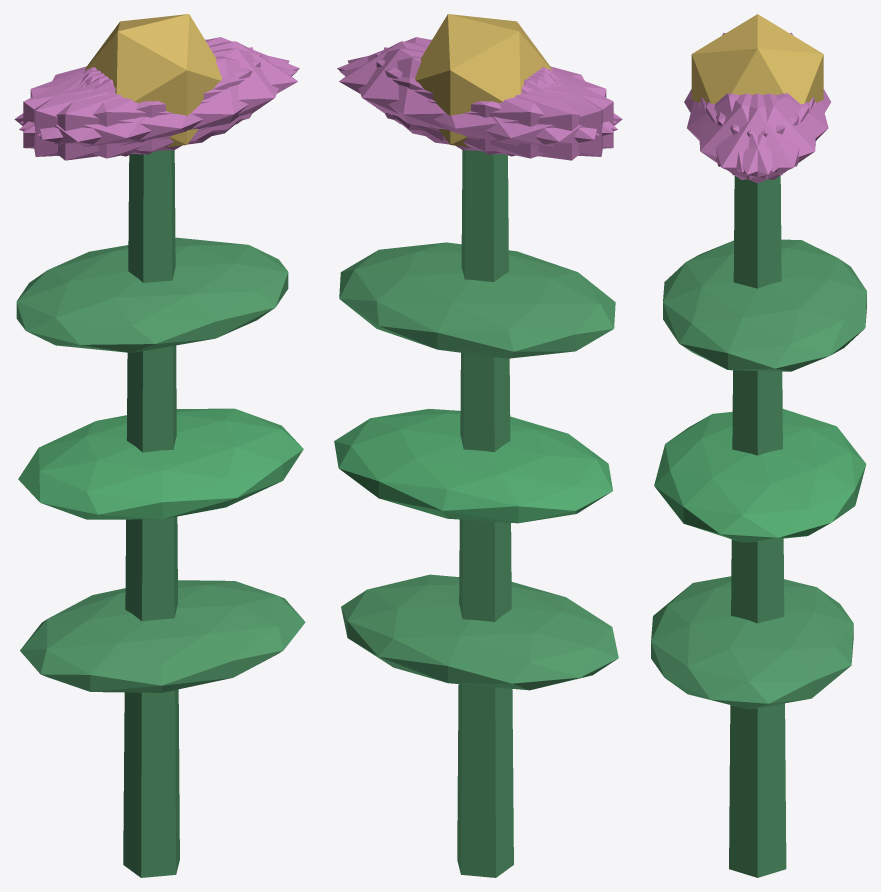
File: eclipta-prostrata.glb
The picture shows the model from 3 angles, left to right: view 1: azimuth 30°, elevation 25°; view 2: azimuth 150°, elevation 25°; view 3: azimuth 270°, elevation 25°; orthographic projection.
Visible parts, largest first — view 1: stem, leaf1, leaf0, leaf2, center, petal1, petal6, petal2, petal5, petal7, petal0, petal4 (+2 smaller); view 2: stem, leaf2, leaf1, leaf0, center, petal8, petal3, petal7, petal4, petal2, petal0, petal5 (+2 smaller); view 3: stem, leaf1, leaf2, leaf0, center, petal0, petal5, petal4, petal8, petal1.
Boxes of the visible parts, <box> form: stem: <box>123,150,179,877</box>; leaf1: <box>18,408,303,519</box>; leaf0: <box>20,580,305,692</box>; leaf2: <box>16,237,288,352</box>; center: <box>85,14,221,147</box>; petal1: <box>19,56,297,158</box>; petal6: <box>14,68,216,160</box>; petal2: <box>34,47,253,156</box>; petal5: <box>38,48,289,151</box>; petal7: <box>23,53,261,154</box>; petal0: <box>84,41,297,141</box>; petal4: <box>20,37,299,133</box>; stem: <box>457,150,513,877</box>; leaf2: <box>339,242,615,358</box>; leaf1: <box>334,409,612,523</box>; leaf0: <box>341,574,618,690</box>; center: <box>415,14,552,147</box>; petal8: <box>340,56,617,158</box>; petal3: <box>421,68,622,160</box>; petal7: <box>384,47,602,156</box>; petal4: <box>348,48,599,151</box>; petal2: <box>375,53,613,154</box>; petal0: <box>339,41,552,141</box>; petal5: <box>337,37,616,133</box>; stem: <box>729,175,786,877</box>; leaf1: <box>654,409,866,542</box>; leaf2: <box>663,239,866,371</box>; leaf0: <box>651,576,853,709</box>; center: <box>691,14,823,104</box>; petal0: <box>701,93,814,183</box>; petal5: <box>699,93,809,179</box>; petal4: <box>706,93,815,180</box>; petal8: <box>716,93,828,172</box>; petal1: <box>687,93,799,172</box>.
Bounding box in the file's own units: 0.1452 × 0.427 × 0.1002.
